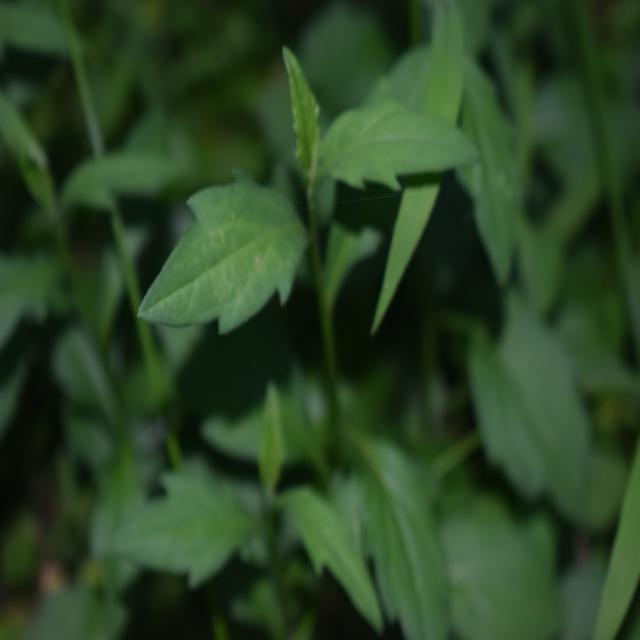Indian aster: (156, 63, 453, 606)
